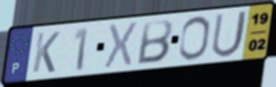1: (73, 25, 91, 73)
B: (134, 18, 175, 66)
K: (31, 30, 62, 75)
O: (177, 14, 212, 62)
U: (209, 8, 250, 59)
X: (102, 20, 141, 70)
